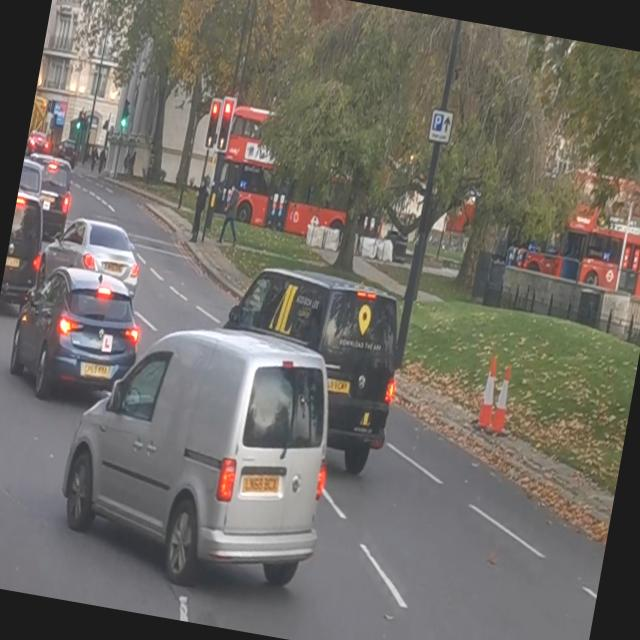Vehicle: (55, 314, 346, 594), (218, 266, 414, 442), (1, 262, 150, 412), (41, 199, 156, 295), (0, 192, 51, 304), (21, 149, 81, 242)
